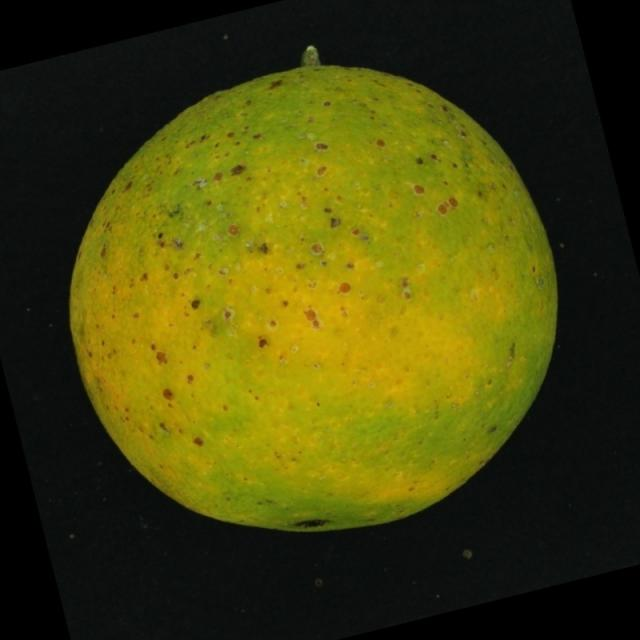grenning: (40, 32, 572, 550)
